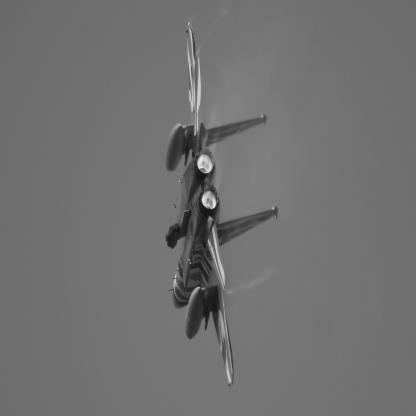F15: (165, 21, 280, 387)
